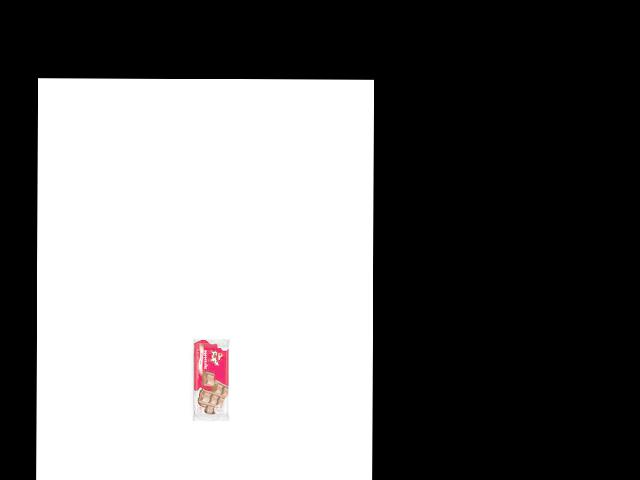chocolate: (192, 338, 230, 423)
